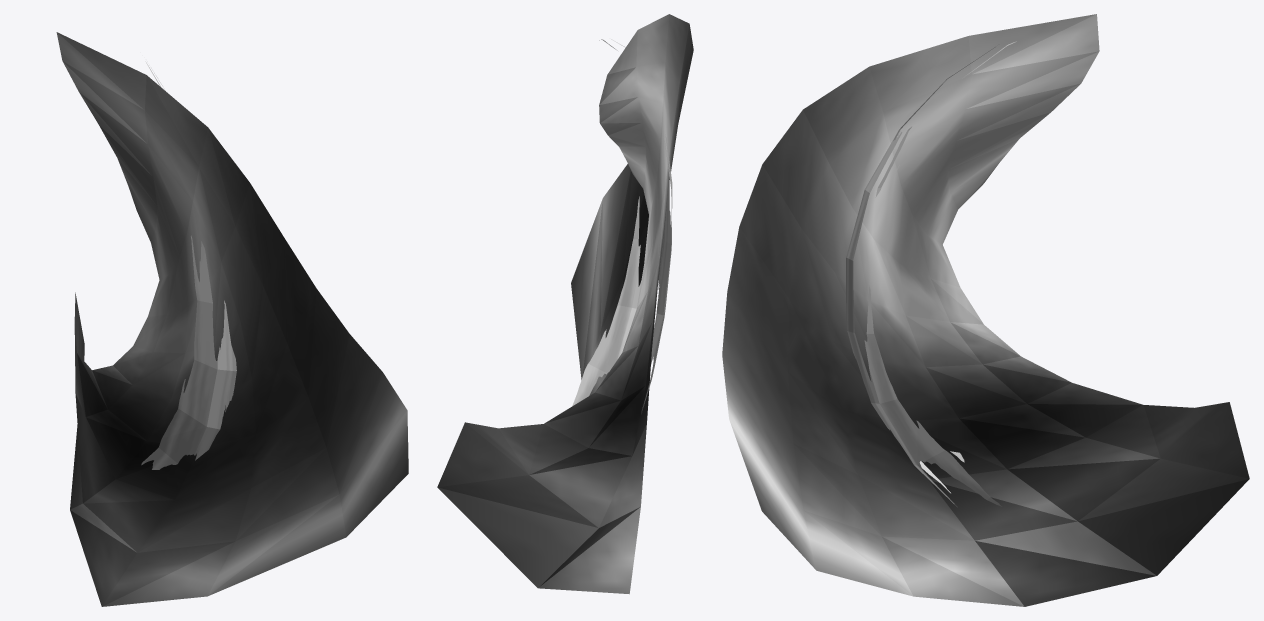
The model's file is 0041_Mikal@Atk3.fbx.
3 renders of one model, left to right at view 1: azimuth 30°, elevation 25°; view 2: azimuth 150°, elevation 25°; view 3: azimuth 270°, elevation 25°, orthographic. The views are drawn at different scales.
Parts seen in each view (by area): view 1: daoguang_bo_01, mesh_daoguang_01; view 2: daoguang_bo_01, mesh_daoguang_01; view 3: daoguang_bo_01, mesh_daoguang_01.
Part boxes in pixels (x1=…): daoguang_bo_01: x1=56, y1=32, x2=408, y2=606; mesh_daoguang_01: x1=141, y1=61, x2=236, y2=469; daoguang_bo_01: x1=437, y1=14, x2=693, y2=594; mesh_daoguang_01: x1=572, y1=39, x2=672, y2=413; daoguang_bo_01: x1=722, y1=14, x2=1249, y2=606; mesh_daoguang_01: x1=846, y1=41, x2=1016, y2=506.
Size of the model in its own units: 3.24 by 8.89 by 7.02.
Materials: 2 (2 with a texture image).
